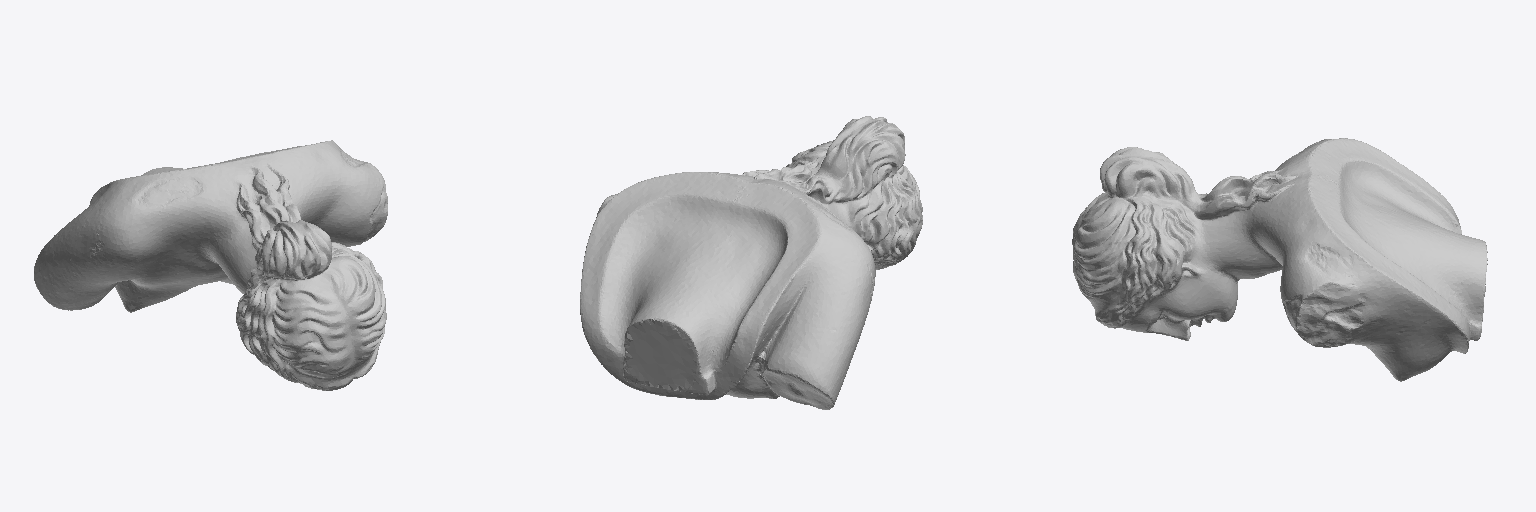
The model's file is Aphrodite_from_jotero_com.obj.
The picture shows the model from 3 angles: view 1: azimuth 30°, elevation 25°; view 2: azimuth 150°, elevation 25°; view 3: azimuth 270°, elevation 25°; orthographic projection.
Visible parts, largest first — view 1: aphrodite1; view 2: aphrodite1; view 3: aphrodite1.
Part boxes in pixels (left/top/right/bottom): aphrodite1: left=34, top=140, right=387, bottom=390; aphrodite1: left=580, top=116, right=922, bottom=409; aphrodite1: left=1072, top=138, right=1487, bottom=381.
Bounding box in the file's own units: 209 × 126 × 263.